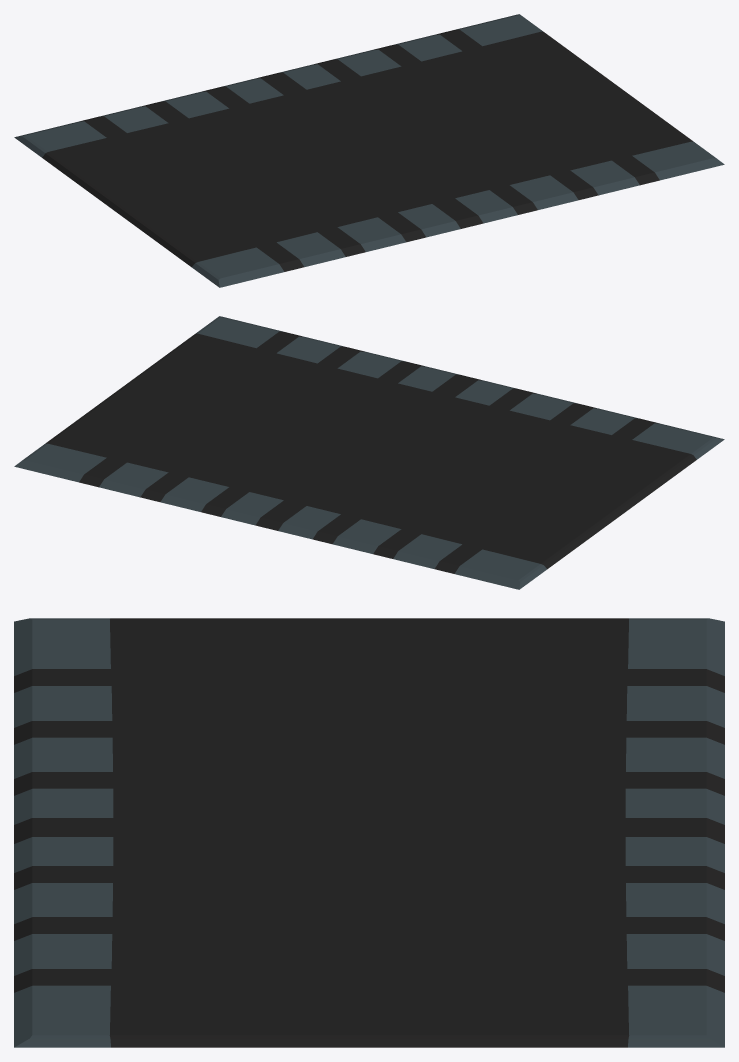
Rendered from RugBlack.fbx.
3 renders of one model, top to bottom at view 1: azimuth 30°, elevation 25°; view 2: azimuth 150°, elevation 25°; view 3: azimuth 270°, elevation 25°, orthographic. The views are drawn at different scales.
Visible parts, largest first — view 1: RugBlack; view 2: RugBlack; view 3: RugBlack.
Boxes of the visible parts, left/top/right/bottom form: RugBlack: left=14, top=14, right=724, bottom=287; RugBlack: left=14, top=316, right=724, bottom=589; RugBlack: left=14, top=618, right=724, bottom=1047.
Bounding box in the file's own units: 271 × 2.13 × 191.
